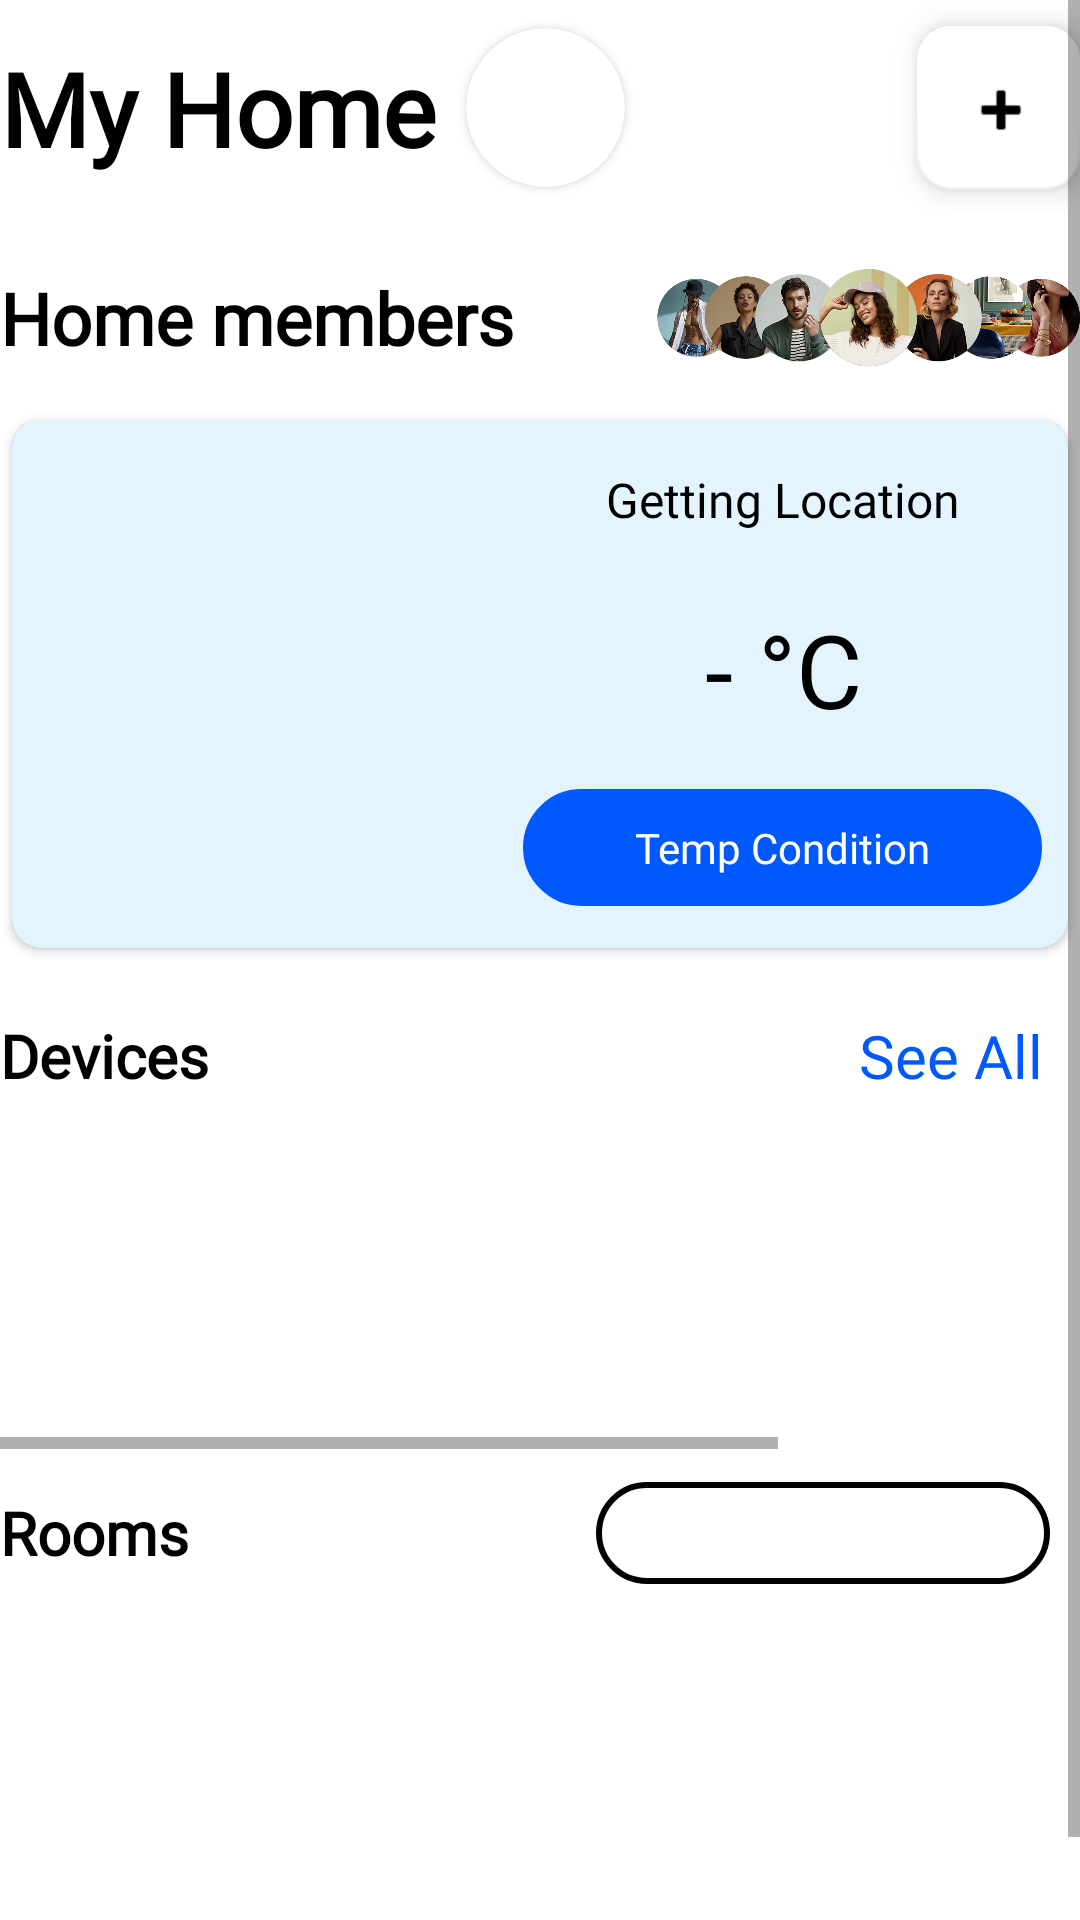

Where to tap for icons on this 1080x1920 app screen, as [x,y]:
add: [998,107]
